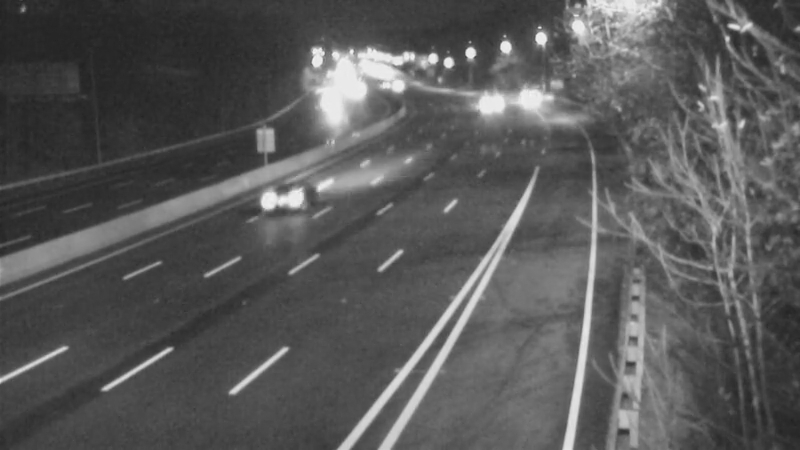vehicle: (245, 158, 325, 238), (501, 77, 551, 127), (461, 74, 511, 124)
